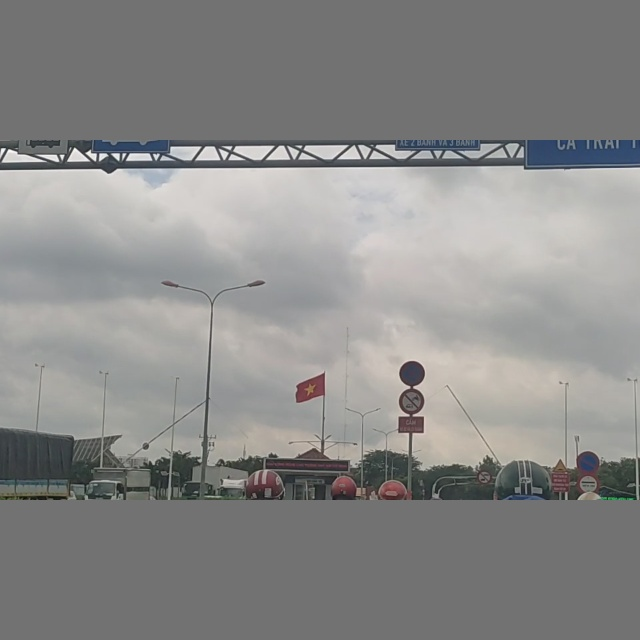P.107: (477, 470, 492, 485)
P.111: (399, 389, 425, 414)
P.129: (579, 473, 599, 493)
P.130: (400, 361, 425, 386)
P.131a: (578, 452, 600, 473)
W.221b: (553, 458, 568, 472)
